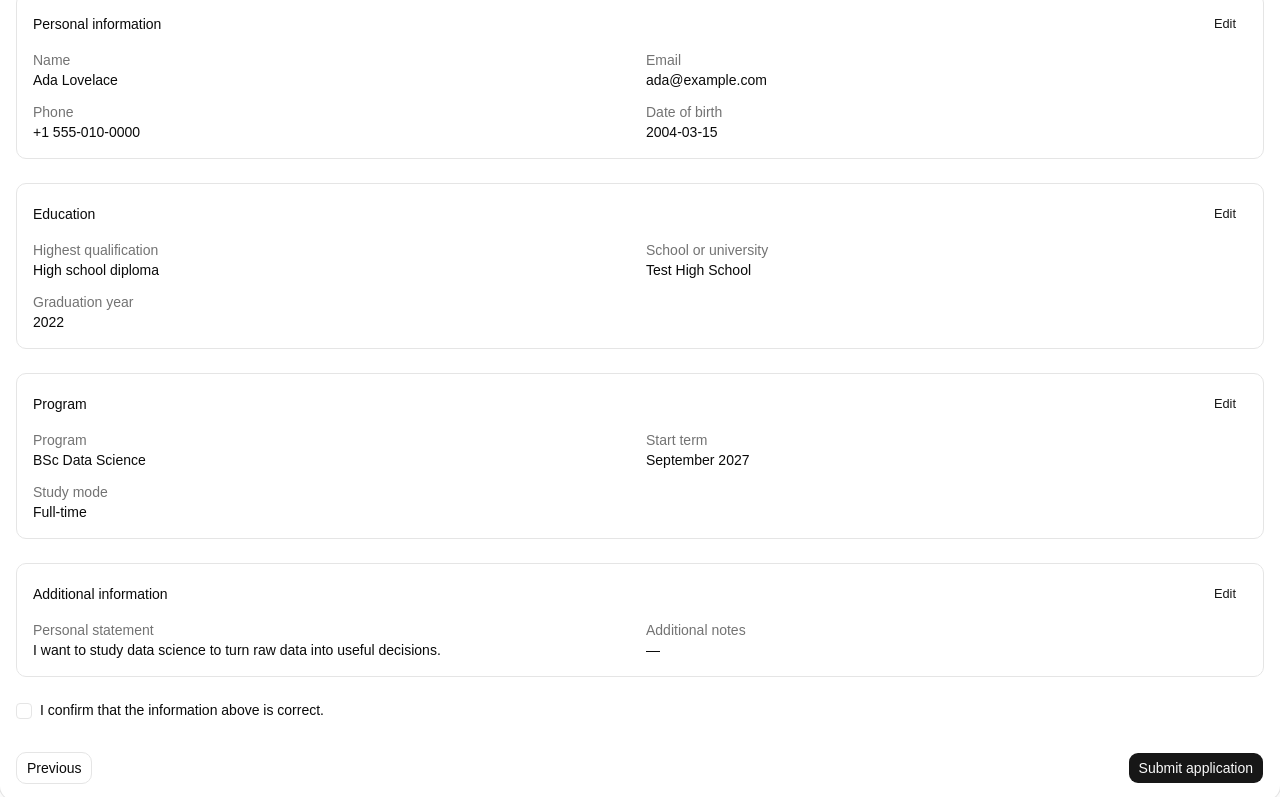
Test: ApplyPage › requires the confirmation checkbox before submitting
The image size is (1280, 797).
(page scrolled)
Click the button "Submit application": point(1196, 768) x1=1128 y1=752 x2=1264 y2=784
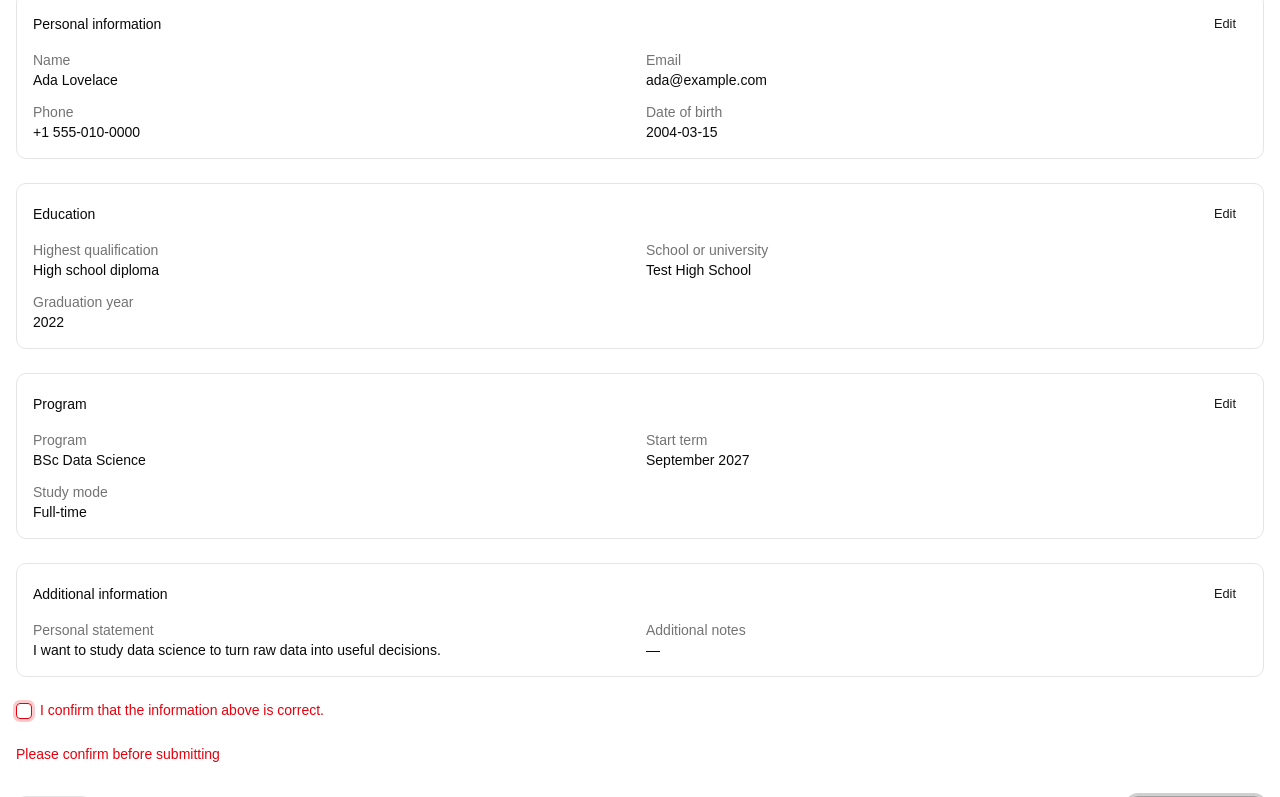
Expected: the text "Please confirm before submitting" is shown, x1=16 y1=746 x2=220 y2=762
